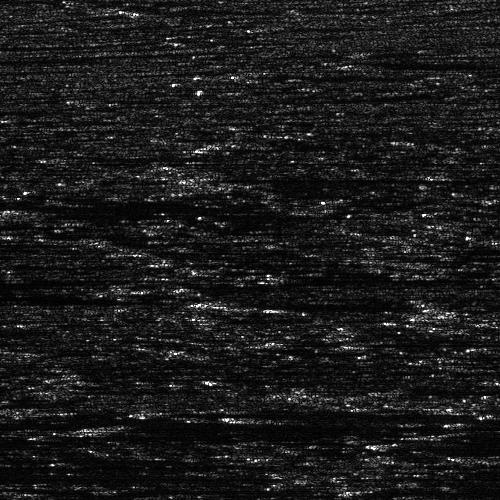object: (61, 421, 154, 432), (173, 171, 236, 184), (179, 298, 252, 309), (212, 416, 295, 421), (363, 440, 404, 449), (330, 487, 361, 492), (5, 212, 46, 215)
shadow: (205, 171, 493, 184), (108, 421, 320, 432), (216, 298, 368, 309), (0, 295, 147, 306), (254, 416, 475, 421), (384, 440, 500, 449), (25, 212, 304, 215), (346, 487, 492, 492)
